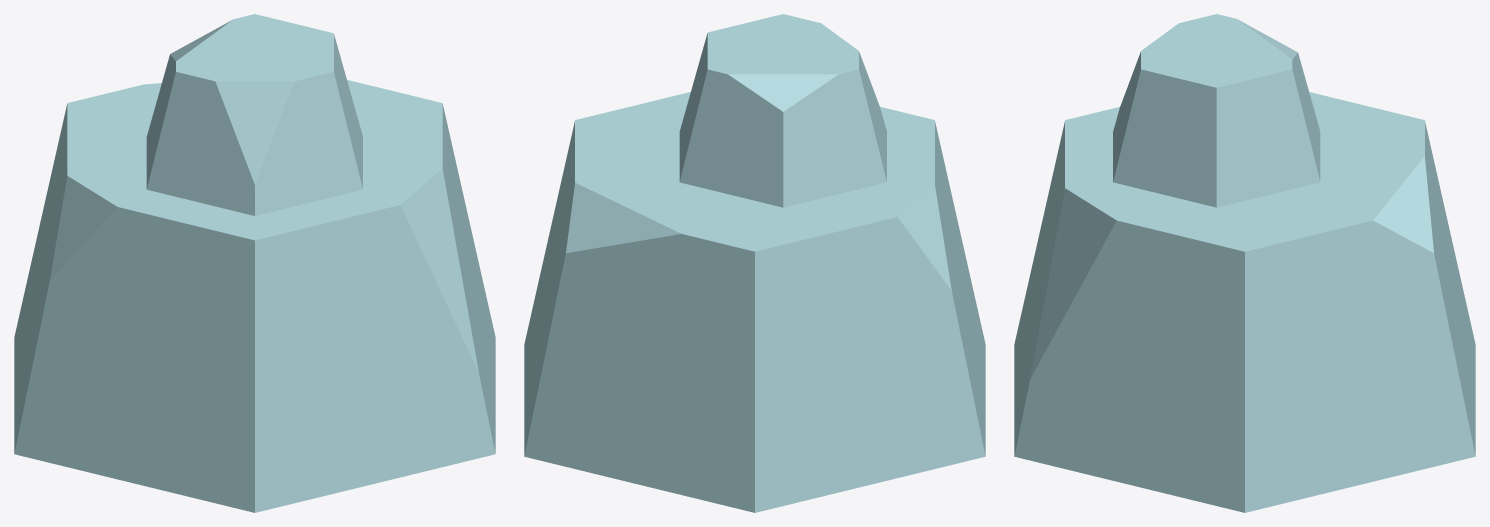
The model's file is stone_smallE.dae.
The picture shows the model from 3 angles, left to right: view 1: azimuth 30°, elevation 25°; view 2: azimuth 150°, elevation 25°; view 3: azimuth 270°, elevation 25°; orthographic projection. The views are drawn at different scales.
Visible parts, largest first — view 1: stone_smallE; view 2: stone_smallE; view 3: stone_smallE.
Boxes of the visible parts, x1,y1,x2,y2 form: stone_smallE: (14,14,495,512); stone_smallE: (524,14,985,512); stone_smallE: (1014,14,1475,512).
Bounding box in the file's own units: 0.3608 × 0.2562 × 0.3125.
